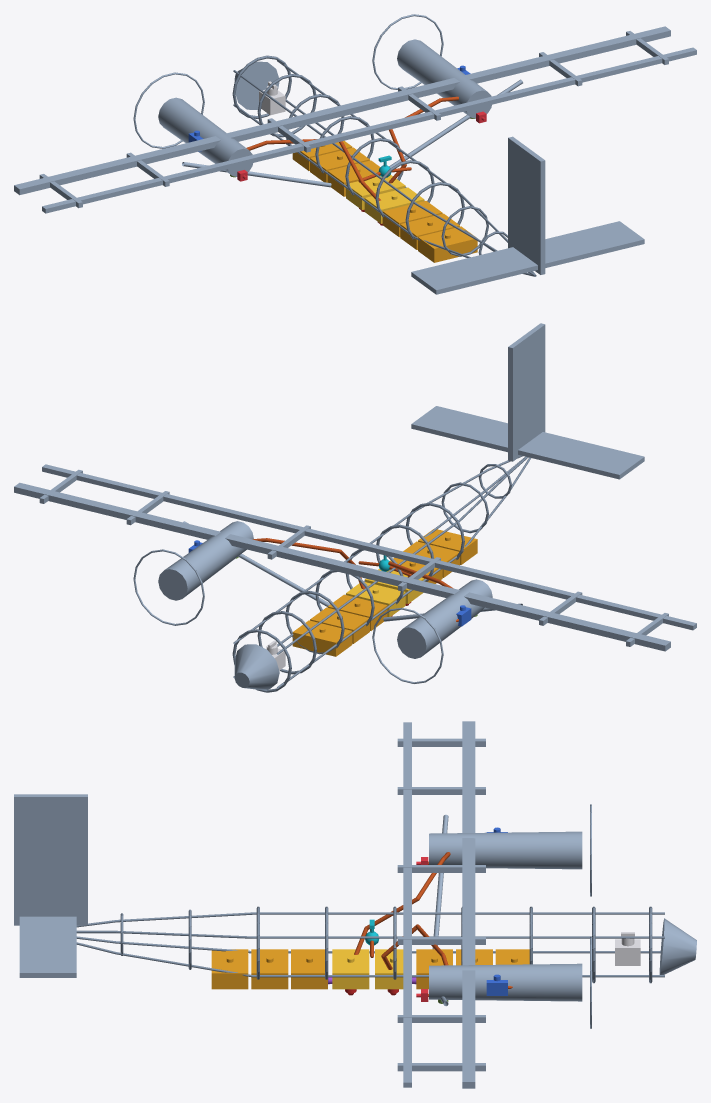
File: fuel_system_training.glb
3 renders of one model, top to bottom at view 1: azimuth 30°, elevation 25°; view 2: azimuth 150°, elevation 25°; view 3: azimuth 270°, elevation 25°, orthographic. The views are drawn at different scales.
Parts seen in each view (by area): view 1: ctx_wing, ctx_tail, ctx_nacelles, ctx_body_frame, aft_tank, fwd_tank, ctx_nose, ctx_lift_struts, aft_collector, fwd_collector, fuel_selector, ctx_fuel_line_aft_left; view 2: ctx_wing, ctx_tail, ctx_nacelles, ctx_body_frame, fwd_tank, aft_tank, ctx_nose, fwd_collector, ctx_lift_struts; view 3: ctx_tail, ctx_wing, ctx_nacelles, ctx_body_frame, aft_tank, fwd_tank, aft_collector, ctx_nose, fwd_collector, fuel_selector.
Part boxes in pixels (x1,y1,x2,y2): ctx_wing: [14, 26, 696, 213]; ctx_tail: [411, 136, 644, 294]; ctx_nacelles: [133, 14, 491, 176]; ctx_body_frame: [232, 55, 536, 276]; aft_tank: [382, 201, 477, 262]; fwd_tank: [292, 140, 380, 196]; ctx_nose: [234, 61, 279, 110]; ctx_lift_struts: [182, 79, 522, 187]; aft_collector: [364, 187, 424, 223]; fwd_collector: [346, 175, 405, 209]; fuel_selector: [259, 81, 285, 115]; ctx_fuel_line_aft_left: [246, 139, 380, 200]; ctx_wing: [14, 464, 696, 651]; ctx_tail: [411, 323, 644, 479]; ctx_nacelles: [133, 521, 492, 683]; ctx_body_frame: [232, 455, 531, 692]; fwd_tank: [292, 594, 387, 656]; aft_tank: [390, 529, 477, 583]; ctx_nose: [234, 644, 279, 689]; fwd_collector: [346, 582, 405, 616]; ctx_lift_struts: [183, 521, 522, 621]; ctx_tail: [14, 794, 87, 977]; ctx_wing: [397, 721, 485, 1088]; ctx_nacelles: [429, 804, 591, 1028]; ctx_body_frame: [76, 906, 664, 983]; aft_tank: [211, 949, 327, 989]; fwd_tank: [416, 949, 529, 989]; aft_collector: [332, 949, 369, 989]; ctx_nose: [659, 918, 696, 974]; fwd_collector: [375, 949, 403, 989]; fuel_selector: [615, 932, 640, 965].
Size of the model in its own units: 3 by 0.75 by 2.4.
